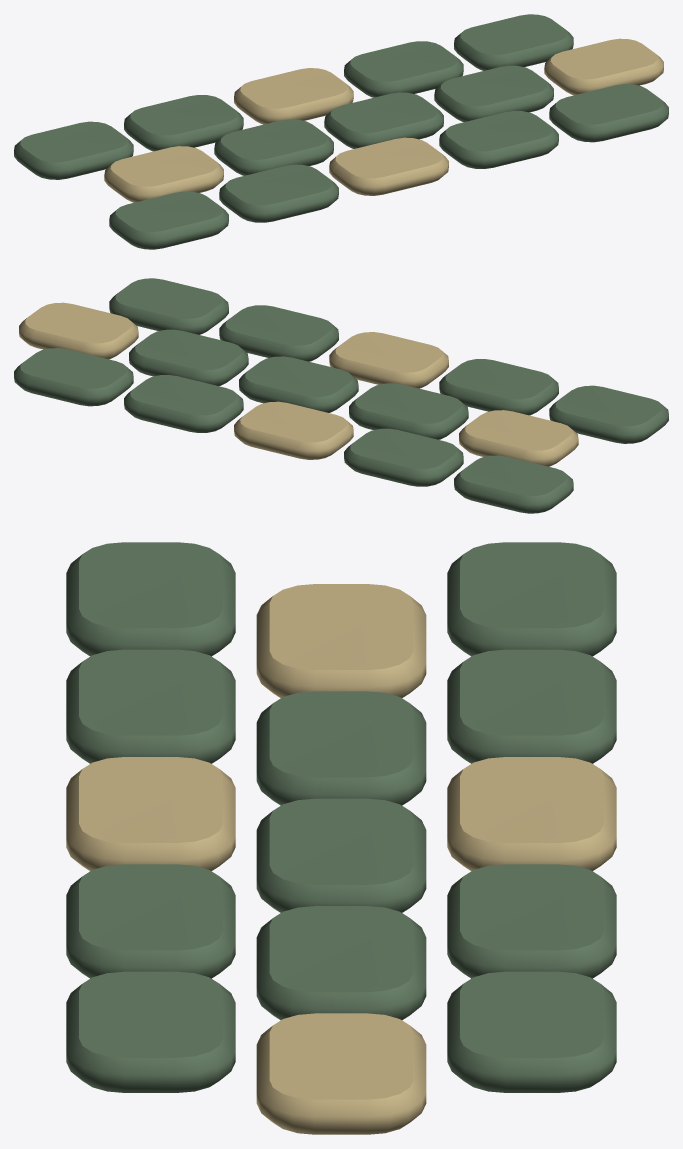
The model's file is paving_3.glb.
3 views of the same model, one above another, from view 1: azimuth 30°, elevation 25°; view 2: azimuth 150°, elevation 25°; view 3: azimuth 270°, elevation 25° (orthographic). The views are drawn at different scales.
Parts seen in each view (by area): view 1: Paving; view 2: Paving; view 3: Paving.
Boxes of the visible parts, bbox=[...] form: Paving: bbox=[14, 14, 668, 249]; Paving: bbox=[14, 278, 668, 513]; Paving: bbox=[66, 542, 616, 1134].
Bounding box in the file's own units: 3.81 × 0.11 × 1.56.
